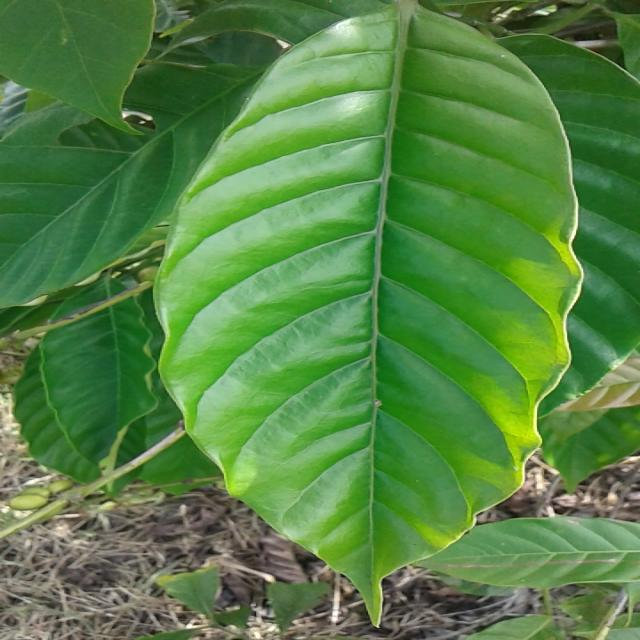Sanas: (154, 0, 584, 625)
